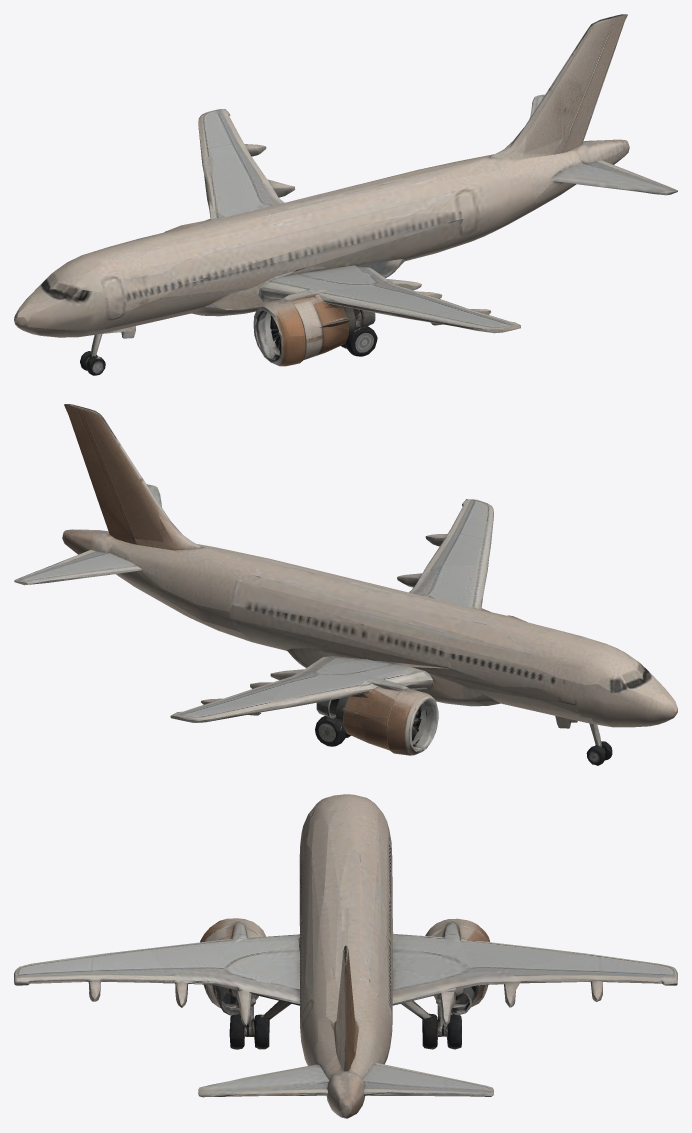
The model's file is jet_airliner.glb.
The picture shows the model from 3 angles, top to bottom: view 1: azimuth 30°, elevation 25°; view 2: azimuth 150°, elevation 25°; view 3: azimuth 270°, elevation 25°; orthographic projection. The views are drawn at different scales.
Size of the model in its own units: 1.9 by 0.6833 by 1.6.
Materials: 1 (1 with a texture image).
